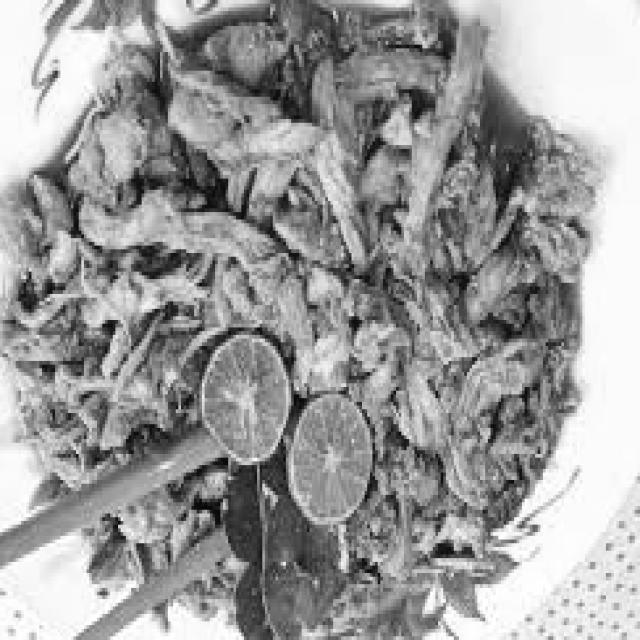ayam_suwir: (3, 4, 580, 640)
